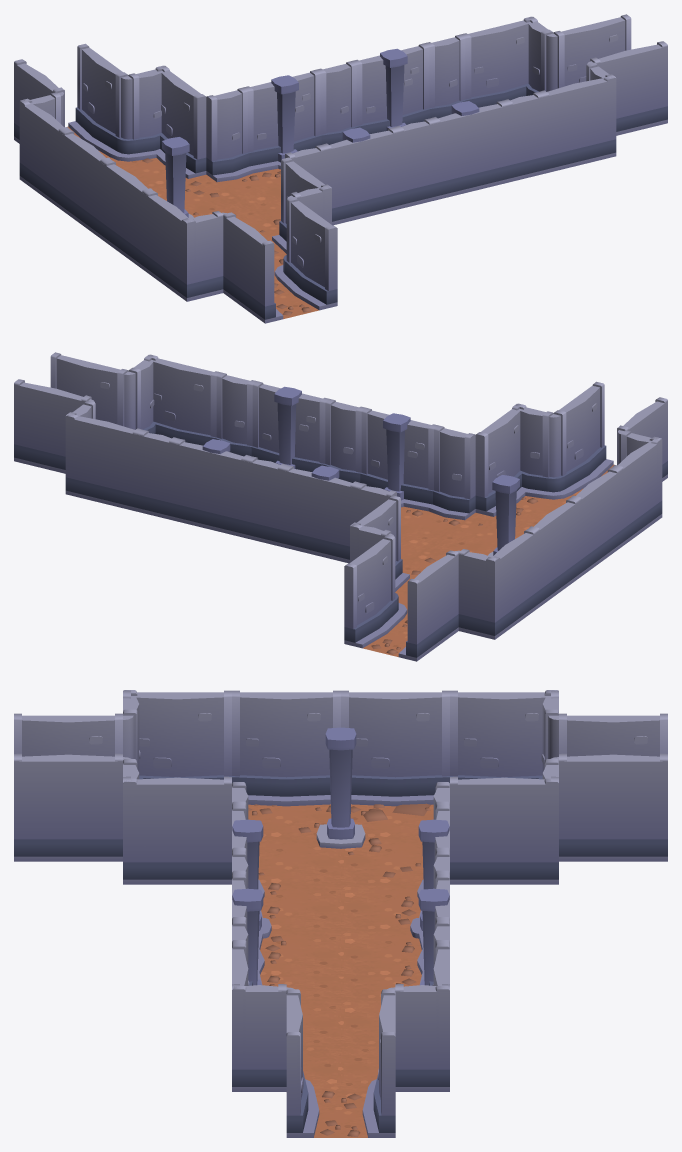
The model's file is new_hallway_tee_3_openings.glb.
3 renders of one model, top to bottom at view 1: azimuth 30°, elevation 25°; view 2: azimuth 150°, elevation 25°; view 3: azimuth 270°, elevation 25°, orthographic. The views are drawn at different scales.
Parts seen in each view (by area): view 1: corridor-wide, corridor-transition.001, corridor-transition, corridor-wide.001, corridor-transition.002, template-floor-big, template-wall, template-wall.001; view 2: corridor-wide, corridor-transition.001, corridor-transition.002, corridor-wide.001, corridor-transition, template-floor-big, template-wall.001, template-wall; view 3: corridor-transition, corridor-transition.002, corridor-transition.001, corridor-wide, template-floor-big, corridor-wide.001, template-wall.001, template-wall.
Part boxes in pixels (x1,y1,x2,y2): corridor-wide: [206, 61, 435, 227]; corridor-transition.001: [461, 14, 667, 173]; corridor-transition: [145, 157, 337, 323]; corridor-wide.001: [320, 34, 543, 209]; corridor-transition.002: [14, 43, 206, 209]; template-floor-big: [151, 137, 279, 240]; template-wall: [61, 129, 111, 240]; template-wall.001: [103, 160, 152, 270]; corridor-wide: [246, 399, 475, 565]; corridor-transition.001: [14, 352, 220, 511]; corridor-transition.002: [344, 495, 536, 661]; corridor-wide.001: [138, 372, 342, 547]; corridor-transition: [475, 381, 667, 547]; template-floor-big: [402, 475, 530, 578]; template-wall.001: [570, 467, 620, 578]; template-wall: [529, 498, 578, 608]; corridor-transition: [14, 690, 231, 884]; corridor-transition.002: [450, 690, 667, 884]; corridor-transition.001: [232, 943, 449, 1137]; corridor-wide: [232, 782, 449, 976]; template-floor-big: [248, 727, 433, 884]; corridor-wide.001: [232, 851, 449, 1045]; template-wall.001: [232, 690, 340, 815]; template-wall: [341, 690, 449, 815].
Size of the model in its own units: 30 by 4.23 by 24.
4 materials, 4 textured.
